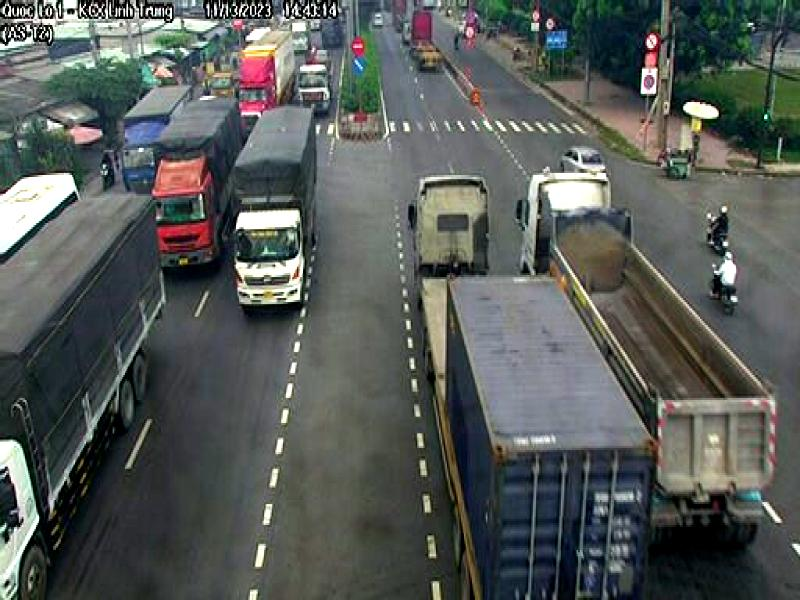truck: (234, 104, 322, 312), (157, 94, 239, 271)
